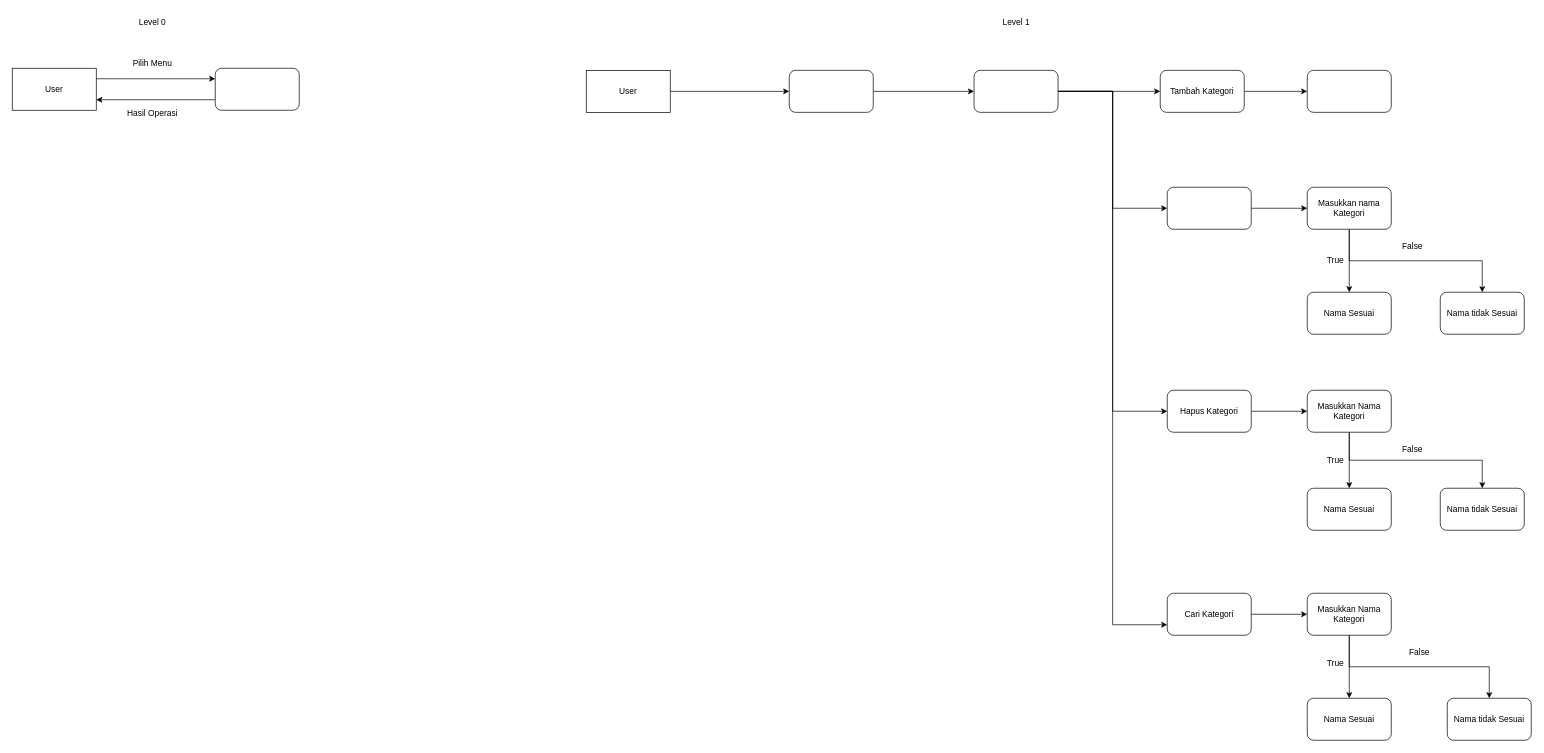
Some shapes in this 1544 by 753 pixel diagram are drawn without their labels. Here are the shapes that lost their labels. From the top down, the centre of each, then its label:
point 257,89: Fitur Kategori
point 831,91: Fitur Kagegori
point 1015,91: Menu Kategori
point 1349,91: Nama Kategori
point 1209,208: Ubah Kategori
